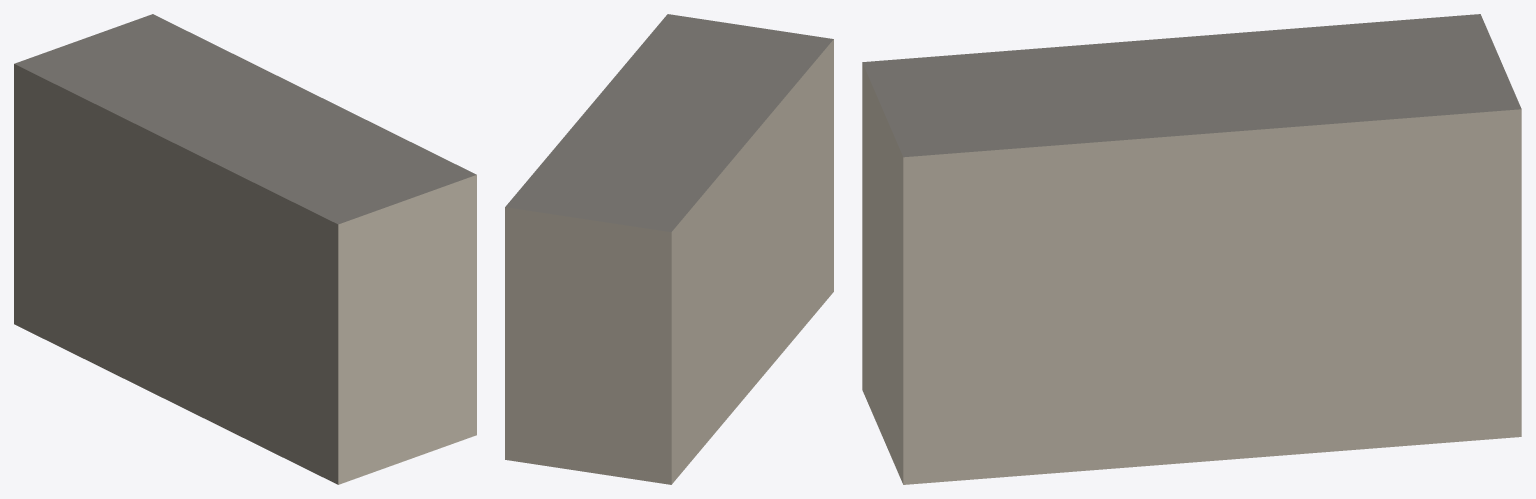
3 views of the same model, side by side, from view 1: azimuth 30°, elevation 25°; view 2: azimuth 150°, elevation 25°; view 3: azimuth 270°, elevation 25° (orthographic). The views are drawn at different scales.
Visible parts, largest first — view 1: HP-w1318376922; view 2: HP-w1318376922; view 3: HP-w1318376922.
Boxes of the visible parts, <box> form: HP-w1318376922: <box>14,14,476,484</box>; HP-w1318376922: <box>505,14,833,484</box>; HP-w1318376922: <box>862,14,1521,484</box>.
Size of the model in its own units: 11.25 by 12 by 21.89.
